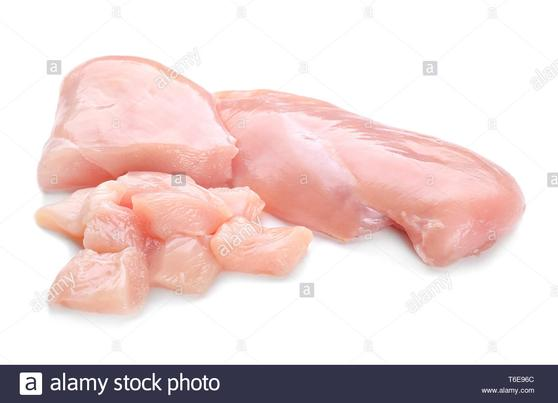chicken_fillet: (203, 79, 531, 269), (45, 48, 241, 197)
